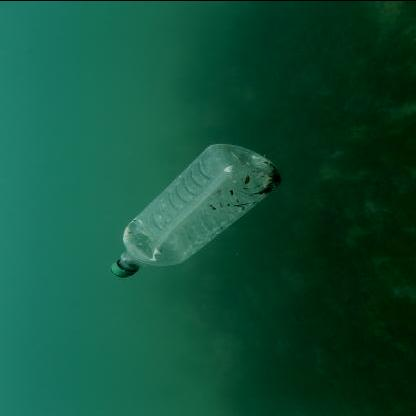bottle: (93, 127, 318, 292)
